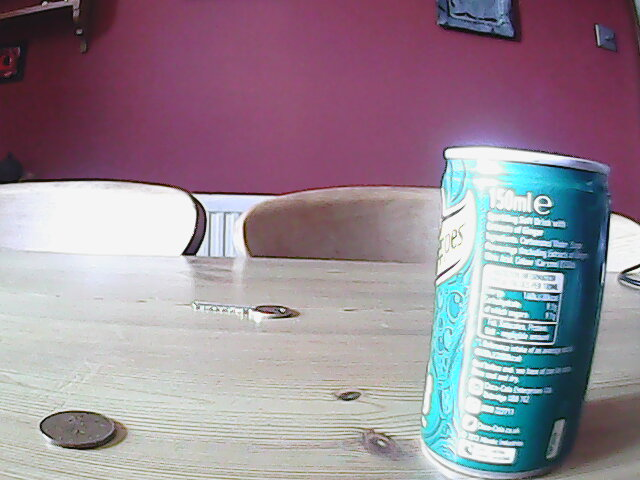Can: (416, 139, 615, 480)
Coin: (36, 408, 119, 453)
Key: (188, 297, 295, 324)
